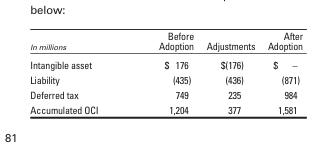table: (29, 28, 302, 115)
table column: (29, 28, 127, 115), (127, 28, 199, 115), (199, 28, 260, 115), (260, 28, 302, 115)
table column header: (29, 28, 302, 54)
table row: (29, 28, 302, 54), (29, 54, 302, 71), (29, 71, 302, 86), (29, 86, 302, 101), (29, 101, 302, 115)
